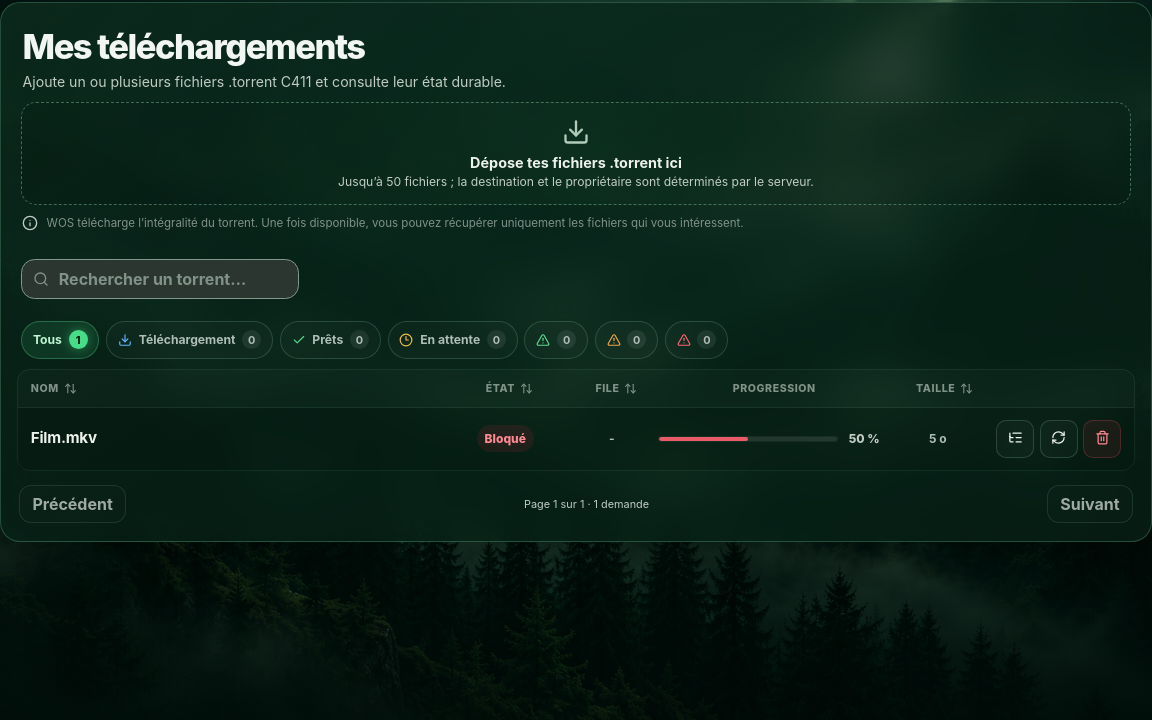
Scenario: UserDownloadsPage › traduit la cause fonctionnelle bornée torrent_unsafe_file_attribute
Click the button named "Afficher les détails de Film.mkv" at (1015, 438), box [996,420,1034,458]
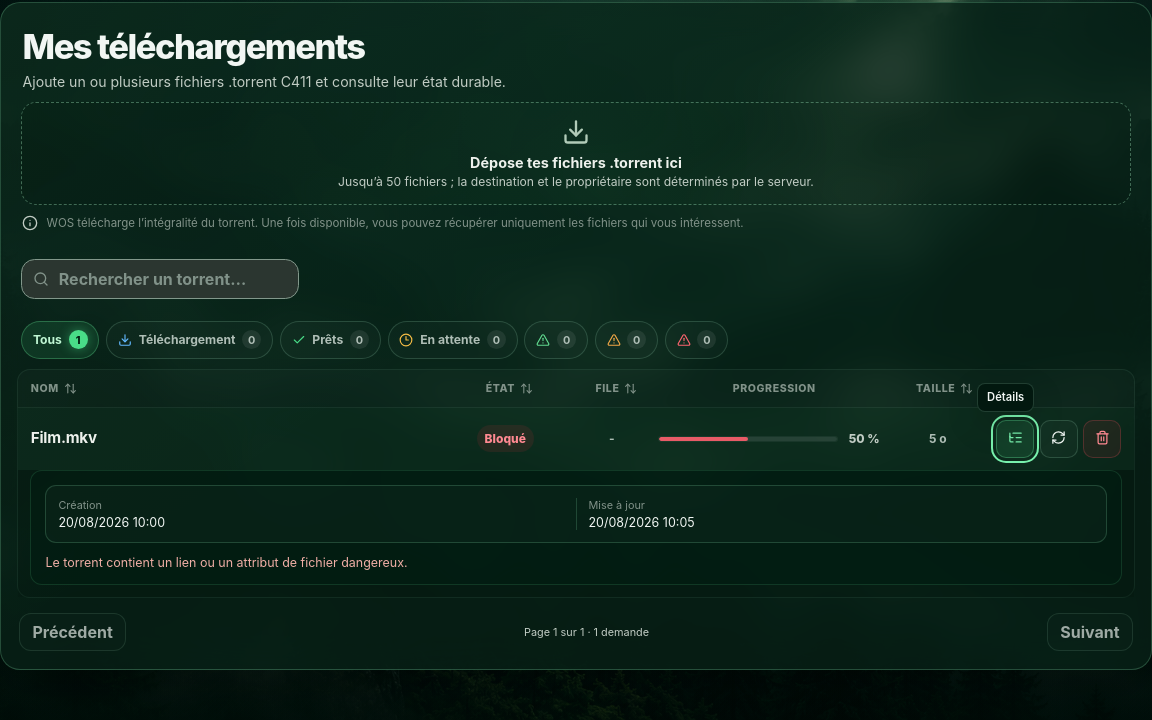
Check: the message reads "Le torrent contient un lien ou un attribut de fichier dangereux.", box [45,555,408,570]
